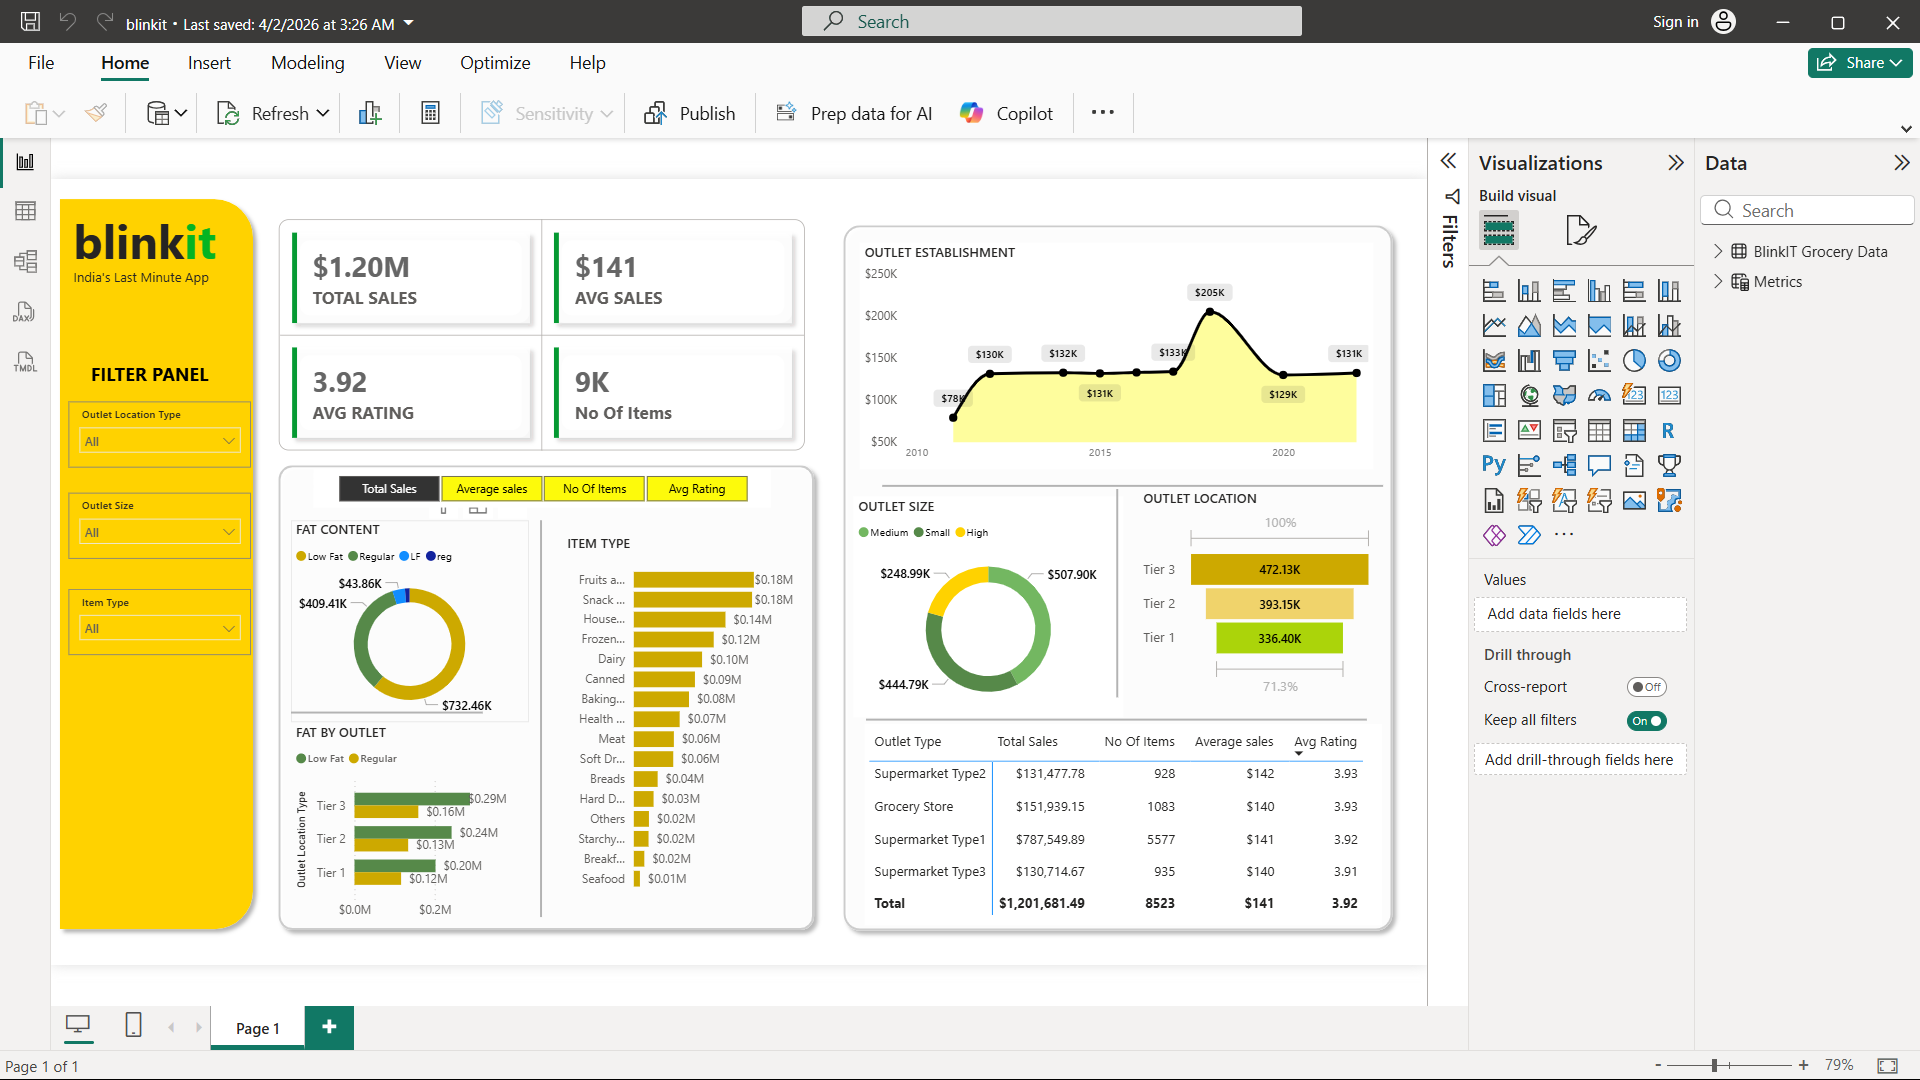

The dashboard page shown, as its layout file describes it:
{"tool":"powerbi","page":{"name":"Page 1","canvas":[1400,800],"ordinal":0},"visuals":[{"type":"shape","box":[0,12,214.6,760.9],"z":0},{"type":"textbox","box":[18,24,168.1,79.5],"z":1000},{"type":"textbox","box":[18,85.5,156.1,34.5],"z":2000},{"type":"cardVisual","fields":{"Data":["BlinkIT Grocery Data.Total Sales","BlinkIT Grocery Data.Average sales","BlinkIT Grocery Data.Avg Rating","BlinkIT Grocery Data.No Of Items"]},"box":[214.9,24.2,569.8,269.6],"z":3000},{"type":"shape","box":[222.1,282.2,562.8,490.8],"z":4000},{"type":"donutChart","title":"FAT CONTENT","fields":{"Y":["BlinkIT Grocery Data.Total Sales"],"Category":["BlinkIT Grocery Data.Item Fat Content"]},"box":[244.6,346.7,241.6,207.1],"z":5000},{"type":"slicer","fields":{"Values":["Metrics.Metrics"]},"box":[267.1,295.1,465.5,39.4],"z":6000},{"type":"clusteredBarChart","title":"FAT BY OUTLET","fields":{"Y":["BlinkIT Grocery Data.Total Sales"],"Category":["BlinkIT Grocery Data.Outlet Location Type"],"Series":["BlinkIT Grocery Data.Item Fat Content"]},"box":[244.6,553.8,241.6,208.6],"z":7000},{"type":"shape","box":[244.6,531.3,195.1,22.5],"z":8000},{"type":"shape","box":[486.3,346.7,25.5,403.7],"z":9000},{"type":"barChart","title":"ITEM TYPE","fields":{"Y":["BlinkIT Grocery Data.Total Sales"],"Category":["BlinkIT Grocery Data.Item Type"]},"box":[520.8,361.7,240.1,372.2],"z":10000},{"type":"shape","box":[797,37.5,576.3,735.4],"z":11000},{"type":"lineChart","title":"OUTLET ESTABLISHMENT","fields":{"Y":["BlinkIT Grocery Data.Total Sales"],"Category":["BlinkIT Grocery Data.Outlet Establishment Year"]},"box":[822.9,64.9,522.7,230.2],"z":12000},{"type":"shape","box":[829.2,543.1,510,14],"z":13000},{"type":"donutChart","title":"OUTLET SIZE","fields":{"Y":["BlinkIT Grocery Data.Total Sales"],"Category":["BlinkIT Grocery Data.Outlet Size"]},"box":[816.5,323,274.7,225.1],"z":14000},{"type":"shape","box":[1078.5,315.4,12.7,212.4],"z":15000},{"type":"funnel","title":"OUTLET LOCATION","fields":{"Y":["Sum(BlinkIT Grocery Data.Sales)"],"Category":["BlinkIT Grocery Data.Outlet Location Type"]},"box":[1106.5,315.4,244.2,216.2],"z":16000},{"type":"shape","box":[845.6,305.1,510,14],"z":17000},{"type":"pivotTable","fields":{"Rows":["BlinkIT Grocery Data.Outlet Type"],"Values":["BlinkIT Grocery Data.Total Sales","BlinkIT Grocery Data.No Of Items","BlinkIT Grocery Data.Average sales","BlinkIT Grocery Data.Avg Rating"]},"box":[827.9,554.5,526.5,204.8],"z":18000},{"type":"slicer","fields":{"Values":["BlinkIT Grocery Data.Outlet Size"]},"box":[17.8,319.2,185.7,67.4],"z":18001},{"type":"slicer","fields":{"Values":["BlinkIT Grocery Data.Outlet Location Type"]},"box":[17.8,226.4,185.7,67.4],"z":18002},{"type":"slicer","fields":{"Values":["BlinkIT Grocery Data.Item Type"]},"box":[17.8,417.2,185.7,67.4],"z":18003},{"type":"textbox","box":[35.6,180.6,150.1,38.2],"z":18004}]}

Visuals, with their boxes on the page's 1400x800 design canvas (x1, y1, x2, y2). These are canvas units, not pixel positions in the 1920x1080 screenshot, which may show the page scaled, cropped or inside an application window:
shape: <box>0,12,215,773</box>
textbox: <box>18,24,186,104</box>
textbox: <box>18,86,174,120</box>
cardVisual - BlinkIT Grocery Data.Total Sales x BlinkIT Grocery Data.Average sales: <box>215,24,785,294</box>
shape: <box>222,282,785,773</box>
"FAT CONTENT" donutChart: <box>245,347,486,554</box>
slicer - Metrics.Metrics: <box>267,295,733,334</box>
"FAT BY OUTLET" clusteredBarChart: <box>245,554,486,762</box>
shape: <box>245,531,440,554</box>
shape: <box>486,347,512,750</box>
"ITEM TYPE" barChart: <box>521,362,761,734</box>
shape: <box>797,38,1373,773</box>
"OUTLET ESTABLISHMENT" lineChart: <box>823,65,1346,295</box>
shape: <box>829,543,1339,557</box>
"OUTLET SIZE" donutChart: <box>816,323,1091,548</box>
shape: <box>1078,315,1091,528</box>
"OUTLET LOCATION" funnel: <box>1106,315,1351,532</box>
shape: <box>846,305,1356,319</box>
pivotTable - BlinkIT Grocery Data.Outlet Type x BlinkIT Grocery Data.Total Sales: <box>828,554,1354,759</box>
slicer - BlinkIT Grocery Data.Outlet Size: <box>18,319,204,387</box>
slicer - BlinkIT Grocery Data.Outlet Location Type: <box>18,226,204,294</box>
slicer - BlinkIT Grocery Data.Item Type: <box>18,417,204,485</box>
textbox: <box>36,181,186,219</box>
